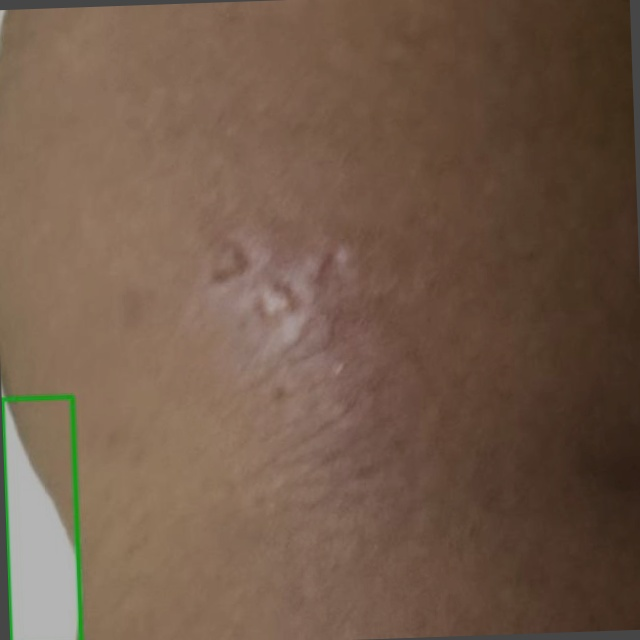Scabies: (2, 397, 81, 639)
